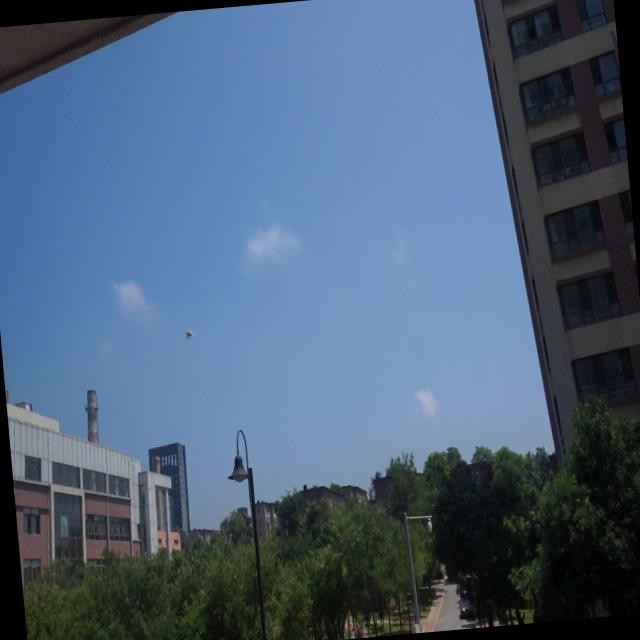drone: (183, 326, 196, 342)
